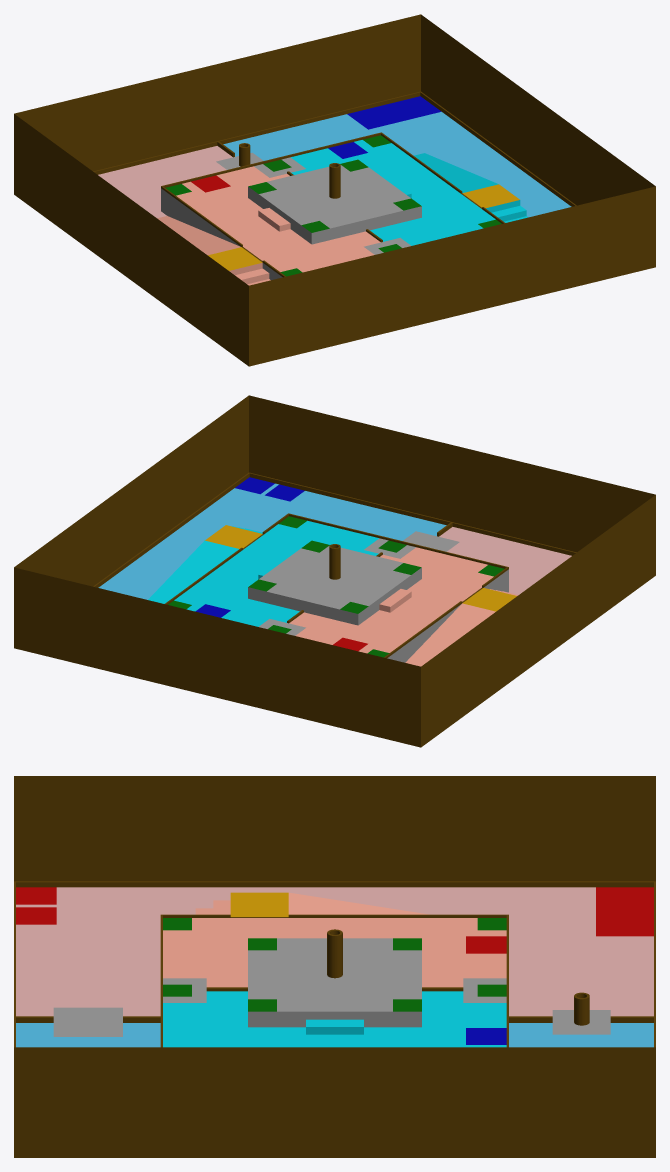
The model's file is robocon2027.glb.
3 views of the same model, one above another, from view 1: azimuth 30°, elevation 25°; view 2: azimuth 150°, elevation 25°; view 3: azimuth 270°, elevation 25° (orthographic). The views are drawn at different scales.
Parts seen in each view (by area): view 1: Plane; view 2: Plane; view 3: Plane, Cylinder.001.
Boxes of the visible parts, x1,y1,x2,y2 form: Plane: [14, 14, 655, 366]; Plane: [14, 395, 655, 747]; Plane: [14, 776, 655, 1157]; Cylinder.001: [327, 929, 342, 978].
Bounding box in the file's own units: 11.05 × 2.1 × 11.05.
